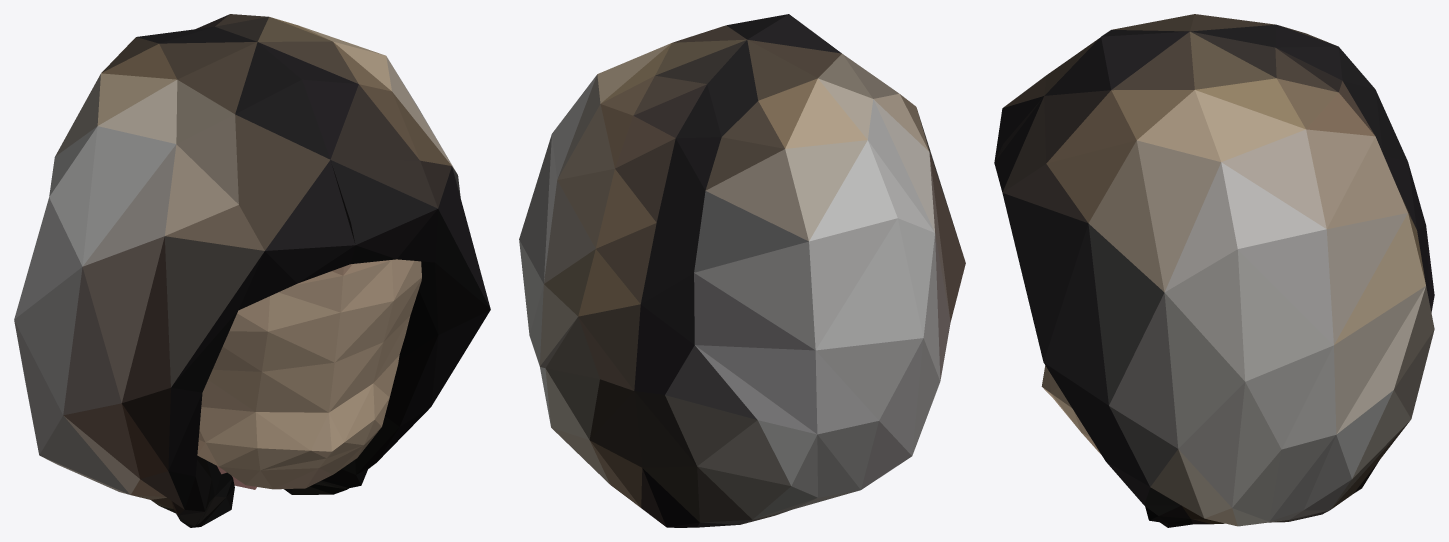
Rendered from helm_lightskin_global_hood.fbx.
3 views of the same model, side by side, from view 1: azimuth 30°, elevation 25°; view 2: azimuth 150°, elevation 25°; view 3: azimuth 270°, elevation 25° (orthographic). The views are drawn at different scales.
Parts seen in each view (by area): view 1: helm_lightskin_global_hood; view 2: helm_lightskin_global_hood; view 3: helm_lightskin_global_hood.
Part boxes in pixels (x1,y1,x2,y2): helm_lightskin_global_hood: (14,14,490,527); helm_lightskin_global_hood: (519,14,965,527); helm_lightskin_global_hood: (994,14,1434,527).
Bounding box in the file's own units: 1.41 × 1.45 × 1.24.
